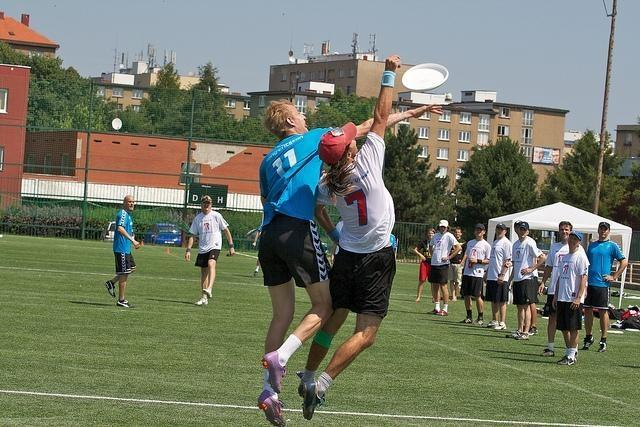car: (142, 223, 183, 248)
